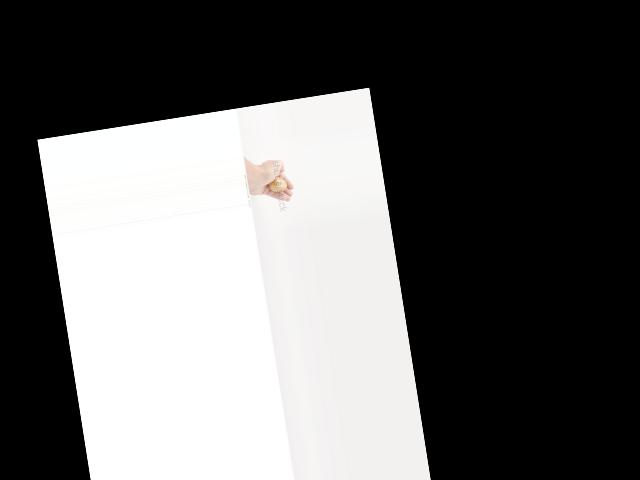egg: (267, 176, 287, 193)
